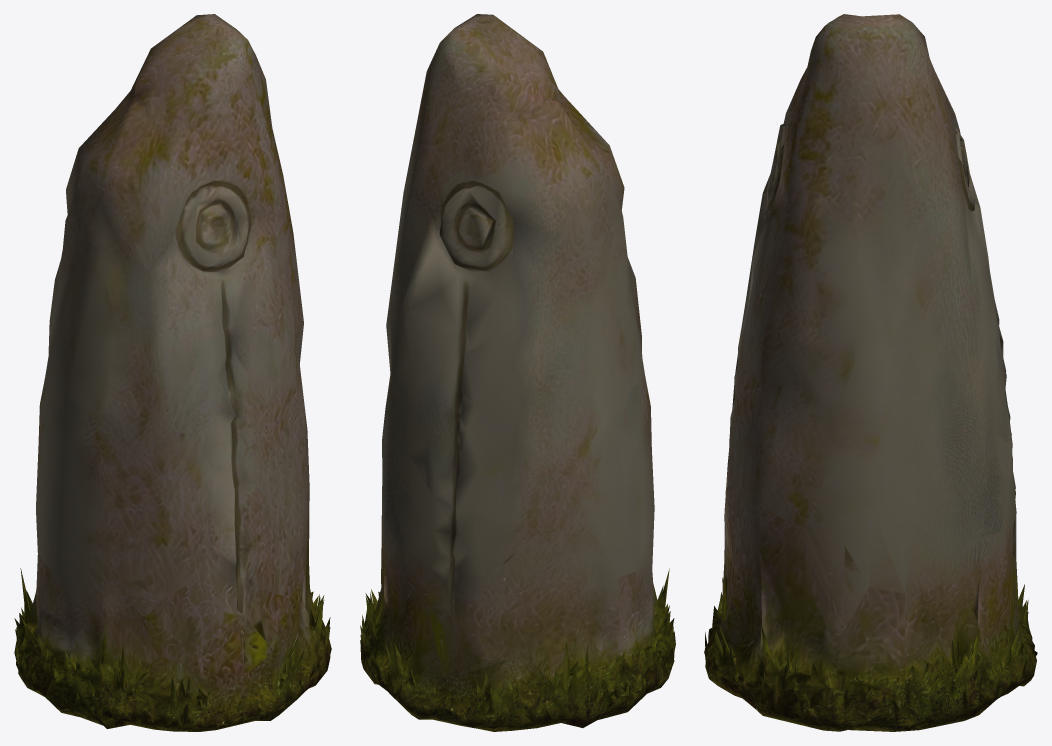
Rendered from SteppeStone.fbx.
3 views of the same model, side by side, from view 1: azimuth 30°, elevation 25°; view 2: azimuth 150°, elevation 25°; view 3: azimuth 270°, elevation 25° (orthographic). The views are drawn at different scales.
Visible parts, largest first — view 1: SteppeStone_Body; view 2: SteppeStone_Body; view 3: SteppeStone_Body.
Part boxes in pixels (left/top/right/bottom): SteppeStone_Body: left=14, top=14, right=331, bottom=731; SteppeStone_Body: left=360, top=14, right=675, bottom=731; SteppeStone_Body: left=704, top=14, right=1037, bottom=731.
Bounding box in the file's own units: 0.4398 × 1 × 0.4469.
Materials: 1 (1 with a texture image).
